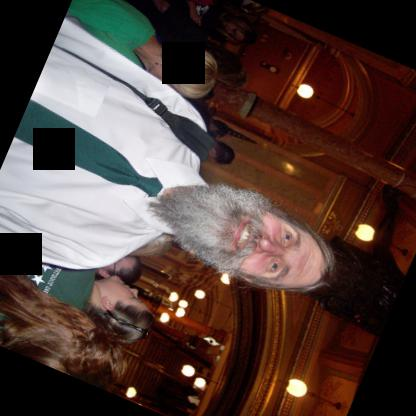backpack: (52, 43, 213, 162)
